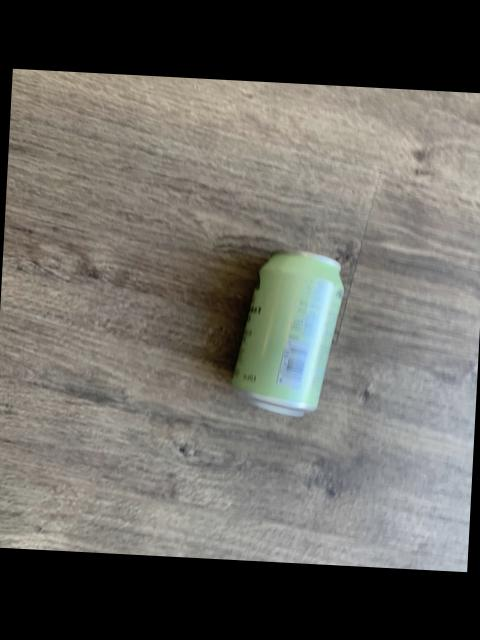metal: (232, 251, 342, 413)
